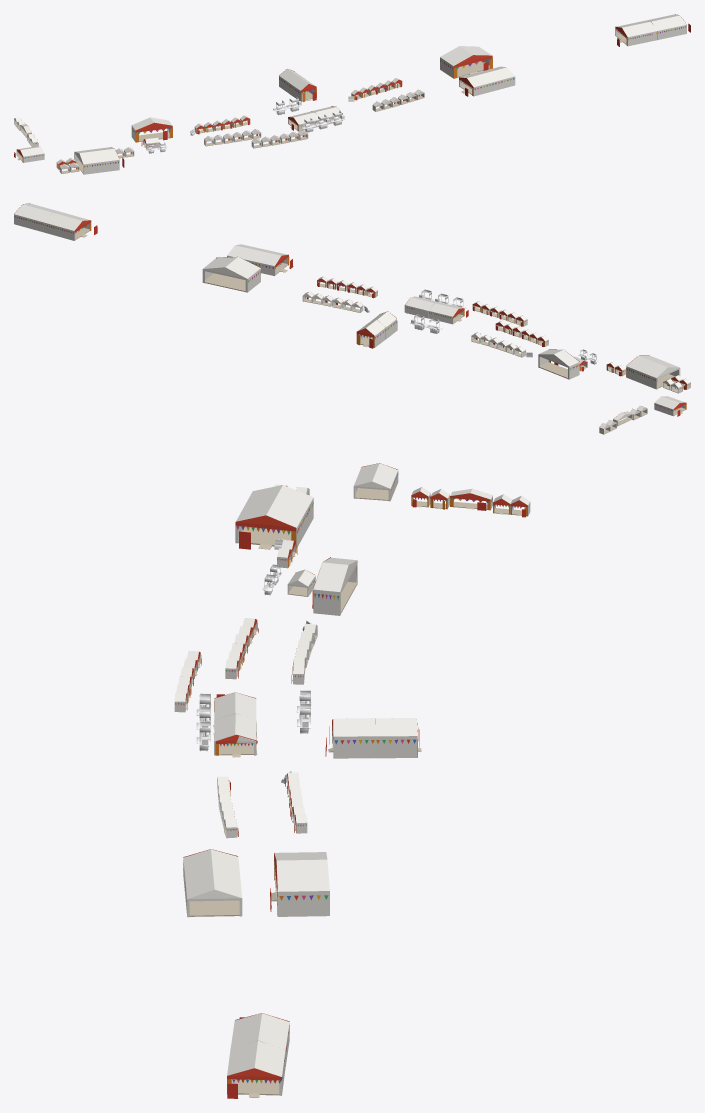
File: evento_feria_del_libro.glb
3 views of the same model, one above another, from view 1: azimuth 30°, elevation 25°; view 2: azimuth 150°, elevation 25°; view 3: azimuth 270°, elevation 25° (orthographic). The views are drawn at different scales.
Visible parts, largest first — view 1: pabellon_05_Cube, pabellon_01_Cube.001, pabellon_02_Cube004.025, pabellon_07_Cube, pabellon_07_Cube.001, pabellon_01_Cube, pabellon_03_Cube, pabellon_06_Cube004.001, pabellon_02_Cube004.013, pabellon_06_Cube004, pabellon_02_Cube001.025; view 2: pabellon_02_Cube004.025, pabellon_01_Cube.001, pabellon_05_Cube, pabellon_07_Cube, pabellon_07_Cube.001, pabellon_02_Cube004.013, pabellon_03_Cube, pabellon_02_Cube001.025, pabellon_03_Cube.001, pabellon_01_Cube, pabellon_06_Cube004; view 3: pabellon_02_Cube004.025, pabellon_05_Cube, pabellon_01_Cube.001, pabellon_02_Cube004.013, pabellon_06_Cube004.001, pabellon_06_Cube004, pabellon_07_Cube.001, pabellon_07_Cube, pabellon_03_Cube.001, pabellon_01_Cube, pabellon_03_Cube.
Part boxes in pixels (x1=…): pabellon_05_Cube: x1=459, y1=66, x2=515, y2=96; pabellon_01_Cube.001: x1=74, y1=147, x2=119, y2=174; pabellon_02_Cube004.025: x1=440, y1=46, x2=491, y2=78; pabellon_07_Cube: x1=615, y1=20, x2=656, y2=46; pabellon_07_Cube.001: x1=646, y1=14, x2=686, y2=40; pabellon_01_Cube: x1=16, y1=146, x2=44, y2=162; pabellon_03_Cube: x1=288, y1=111, x2=320, y2=131; pabellon_06_Cube004.001: x1=289, y1=76, x2=315, y2=100; pabellon_02_Cube004.013: x1=131, y1=117, x2=172, y2=141; pabellon_06_Cube004: x1=279, y1=68, x2=305, y2=93; pabellon_02_Cube001.025: x1=457, y1=61, x2=489, y2=77; pabellon_02_Cube004.025: x1=202, y1=257, x2=260, y2=292; pabellon_01_Cube.001: x1=626, y1=355, x2=680, y2=389; pabellon_05_Cube: x1=227, y1=244, x2=287, y2=275; pabellon_07_Cube: x1=44, y1=212, x2=89, y2=240; pabellon_07_Cube.001: x1=14, y1=203, x2=60, y2=232; pabellon_02_Cube004.013: x1=538, y1=349, x2=579, y2=379; pabellon_03_Cube: x1=429, y1=302, x2=463, y2=324; pabellon_02_Cube001.025: x1=205, y1=273, x2=245, y2=291; pabellon_03_Cube.001: x1=404, y1=296, x2=439, y2=318; pabellon_01_Cube: x1=654, y1=396, x2=685, y2=416; pabellon_06_Cube004: x1=358, y1=320, x2=385, y2=347; pabellon_02_Cube004.025: x1=274, y1=852, x2=329, y2=916; pabellon_05_Cube: x1=183, y1=849, x2=242, y2=917; pabellon_01_Cube.001: x1=235, y1=485, x2=313, y2=548; pabellon_02_Cube004.013: x1=313, y1=557, x2=357, y2=615; pabellon_06_Cube004.001: x1=332, y1=718, x2=374, y2=758; pabellon_06_Cube004: x1=375, y1=718, x2=417, y2=758; pabellon_07_Cube.001: x1=227, y1=1041, x2=285, y2=1095; pabellon_07_Cube: x1=230, y1=1013, x2=289, y2=1067; pabellon_03_Cube.001: x1=214, y1=713, x2=256, y2=755; pabellon_01_Cube: x1=353, y1=463, x2=398, y2=501; pabellon_03_Cube: x1=214, y1=692, x2=256, y2=728.
Bounding box in the file's own units: 24.91 × 0.7087 × 6.04.
Materials: 16 (1 with a texture image).
